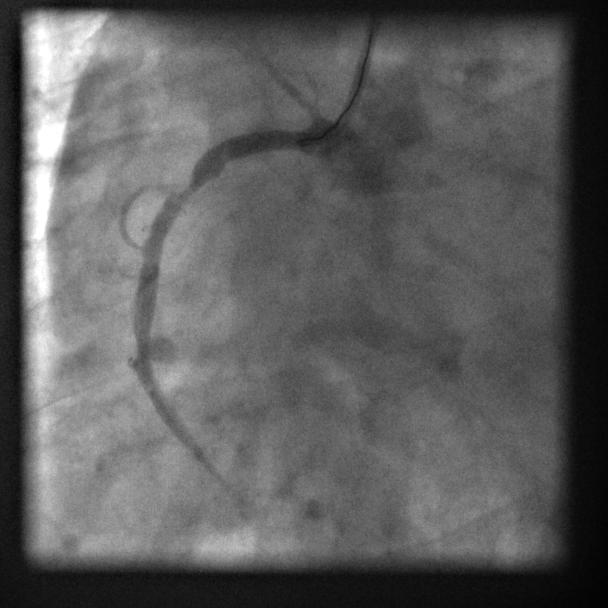Stenosis: (160, 163, 210, 212)
